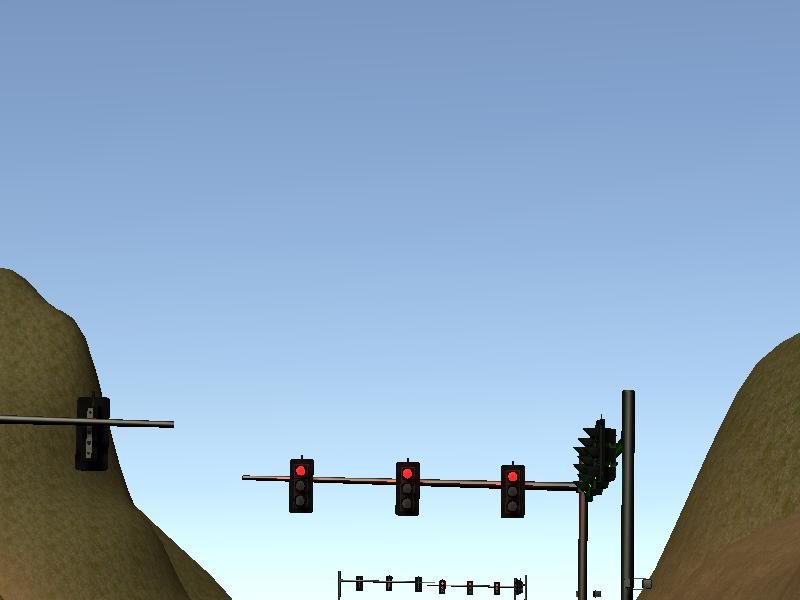Red: (290, 456, 315, 512), (395, 460, 419, 515), (501, 463, 524, 518)
